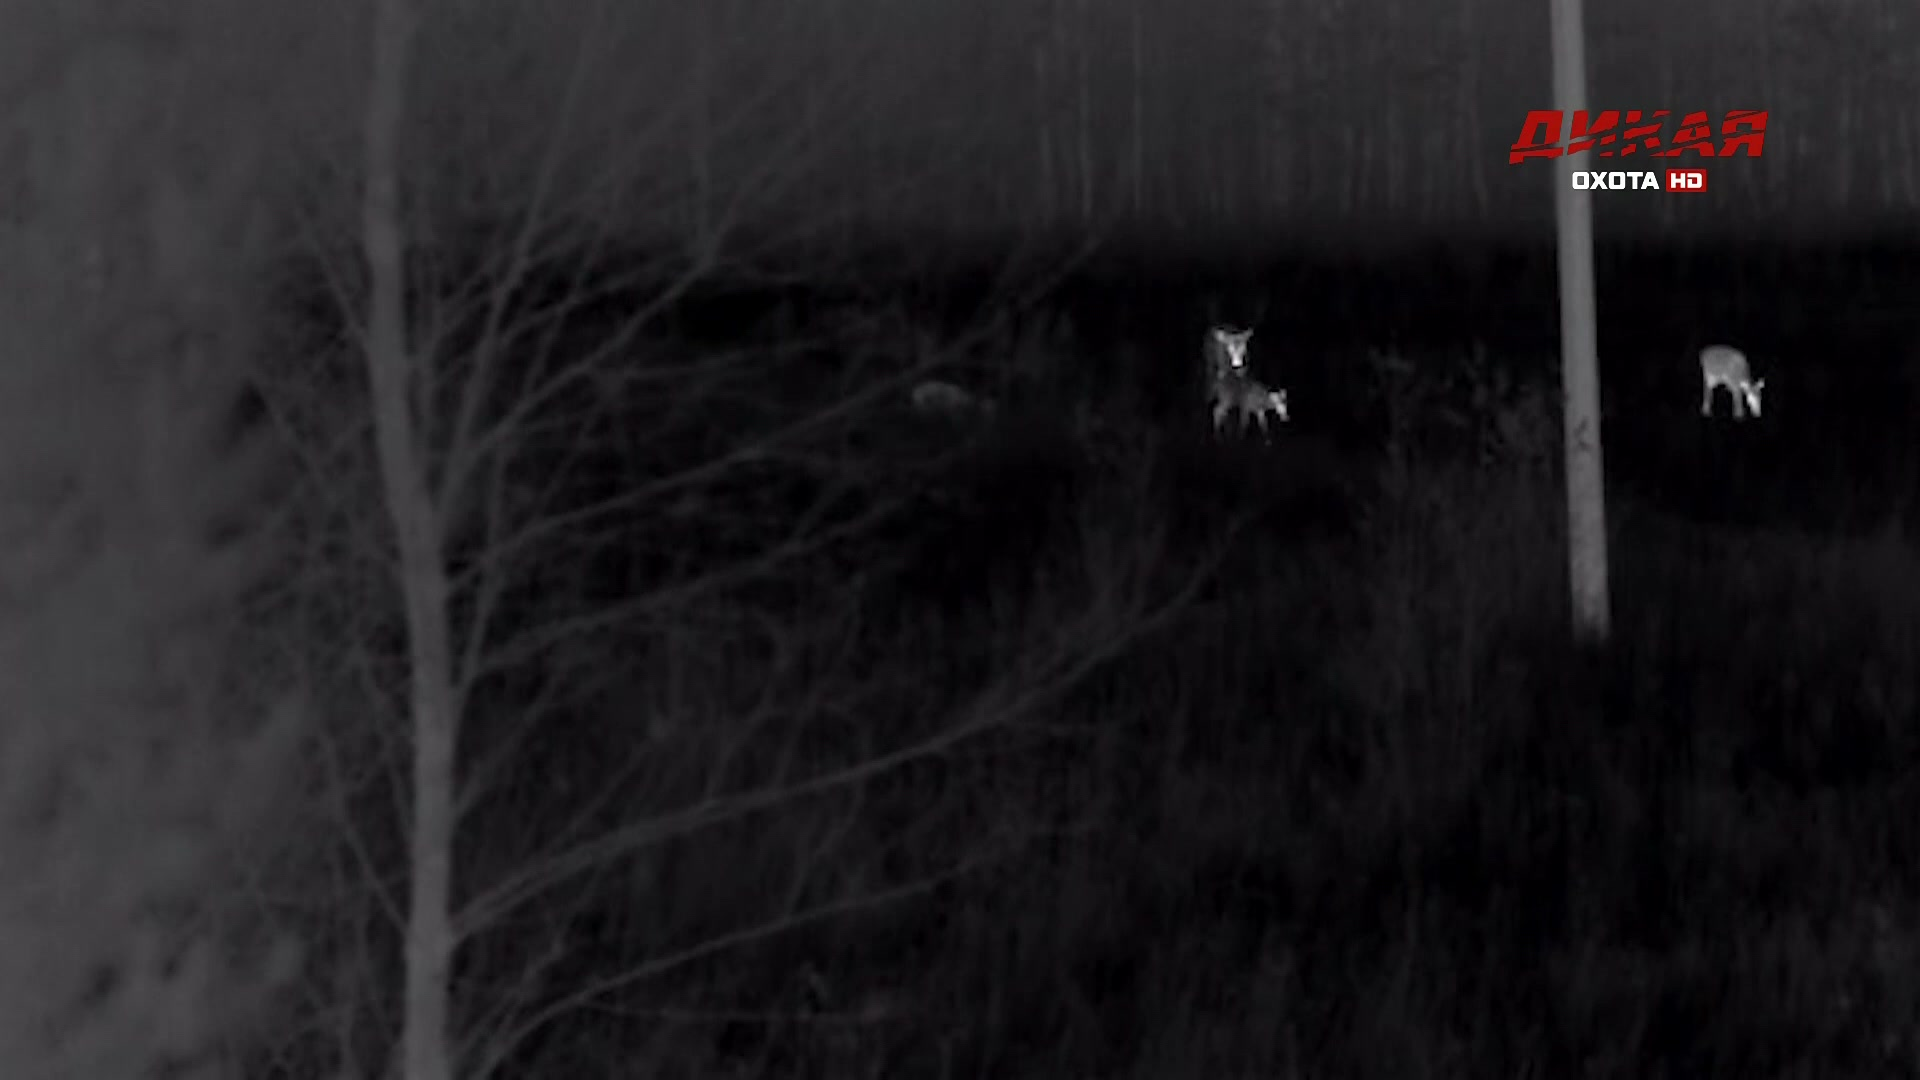Dikaya_Ohota_HD: (1501, 108, 1775, 196)
